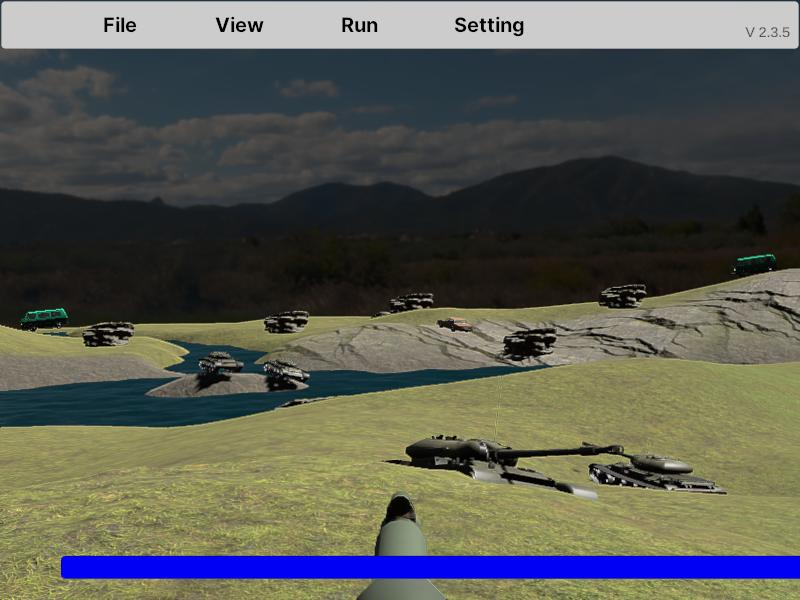Tank: (579, 442, 728, 505), (262, 357, 311, 383), (199, 351, 244, 374)
car: (21, 308, 68, 332)
